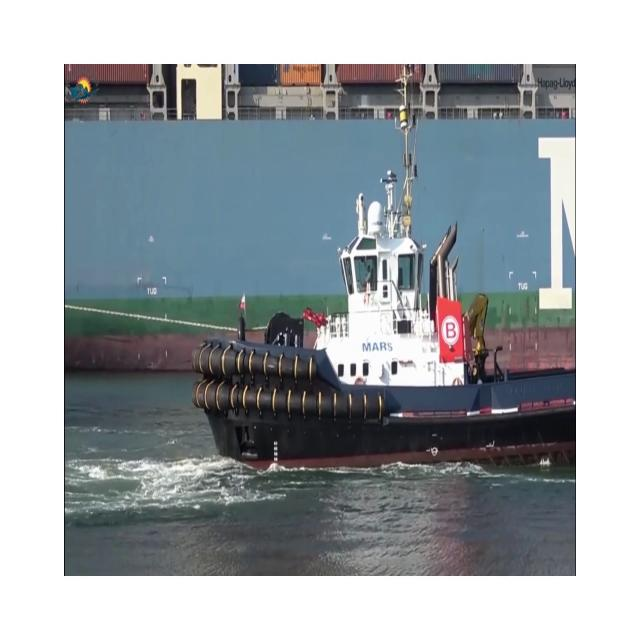OCR: (352, 325, 394, 358)
